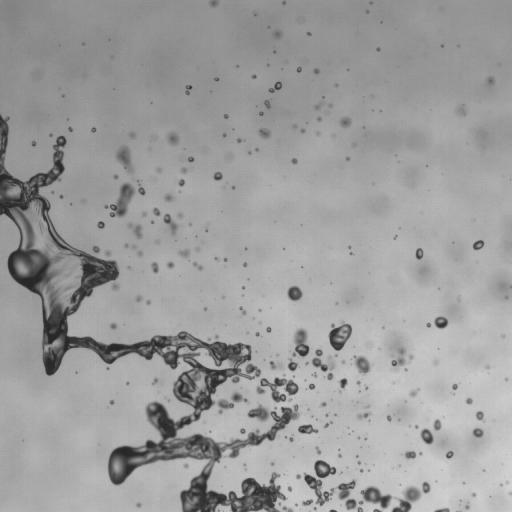droplet: (256, 376, 298, 402), (328, 321, 351, 350), (391, 347, 413, 370), (116, 146, 133, 173), (353, 356, 372, 374), (287, 286, 302, 301), (420, 428, 433, 444), (298, 424, 317, 434), (434, 316, 448, 329), (166, 132, 178, 145), (287, 358, 298, 371), (340, 117, 351, 127), (259, 128, 270, 138), (270, 361, 283, 369), (473, 240, 483, 250), (472, 428, 483, 437), (179, 249, 189, 258), (415, 248, 423, 259), (339, 378, 347, 389), (433, 419, 441, 430), (457, 105, 465, 115), (476, 411, 484, 421), (405, 451, 415, 459), (151, 262, 158, 273), (273, 31, 282, 39), (213, 172, 222, 180), (153, 207, 161, 216), (409, 389, 419, 396), (302, 499, 313, 505), (239, 307, 246, 315), (152, 378, 160, 385), (185, 85, 191, 94), (487, 77, 494, 84), (178, 179, 185, 186), (165, 194, 172, 201), (97, 221, 104, 228), (92, 245, 99, 252), (446, 451, 453, 458), (210, 0, 218, 6), (264, 100, 270, 108), (166, 262, 174, 268), (187, 156, 194, 162), (181, 167, 187, 173), (110, 323, 116, 329), (308, 383, 314, 389), (466, 398, 472, 404), (292, 158, 297, 164), (177, 213, 183, 218), (105, 250, 110, 256), (136, 295, 141, 301), (324, 422, 330, 427), (316, 447, 320, 454), (315, 104, 320, 109), (452, 384, 457, 389), (240, 428, 245, 433), (288, 436, 293, 441), (129, 133, 135, 137), (387, 415, 391, 421), (297, 67, 301, 72), (314, 69, 319, 73), (91, 127, 95, 132), (157, 168, 161, 173), (142, 211, 146, 216), (266, 327, 270, 332), (312, 373, 317, 377), (356, 380, 360, 385), (321, 402, 326, 406), (184, 463, 188, 468), (287, 487, 292, 491), (224, 114, 228, 118), (317, 117, 321, 121), (68, 127, 72, 131), (237, 138, 241, 142), (32, 141, 36, 145), (39, 223, 43, 227), (138, 251, 142, 255), (146, 300, 150, 304), (426, 323, 430, 327), (255, 332, 259, 336), (341, 360, 345, 364), (110, 400, 114, 404), (472, 493, 476, 497), (136, 503, 140, 507), (465, 505, 469, 509), (376, 48, 380, 51), (301, 128, 304, 132), (114, 174, 117, 178), (486, 365, 489, 369), (252, 75, 255, 78), (215, 77, 218, 80), (259, 112, 262, 115), (156, 240, 159, 243), (125, 244, 128, 247), (133, 245, 136, 248), (215, 257, 218, 260), (243, 263, 246, 266), (66, 273, 69, 276), (166, 398, 169, 401), (338, 454, 341, 457), (509, 491, 511, 495), (282, 1, 285, 3), (308, 32, 310, 35), (329, 104, 331, 107), (49, 134, 52, 136), (223, 134, 225, 137), (60, 195, 62, 198), (242, 286, 244, 289), (434, 361, 437, 363), (305, 362, 308, 364), (415, 425, 417, 428), (358, 461, 360, 464), (271, 462, 273, 465), (360, 469, 363, 471), (151, 221, 153, 223), (394, 236, 396, 238), (348, 246, 350, 248), (197, 248, 199, 250), (350, 252, 352, 254), (204, 307, 206, 309), (106, 367, 108, 369), (126, 382, 128, 384), (365, 386, 367, 388), (366, 406, 368, 408), (506, 481, 508, 483), (314, 508, 316, 510)
ligament: (0, 115, 296, 511), (296, 460, 430, 511), (105, 182, 135, 217), (311, 348, 334, 380), (292, 327, 309, 357), (163, 213, 178, 234), (128, 222, 142, 238), (269, 81, 281, 92), (137, 180, 145, 195), (357, 412, 370, 419), (193, 262, 202, 270), (434, 507, 449, 511), (329, 509, 336, 511)
